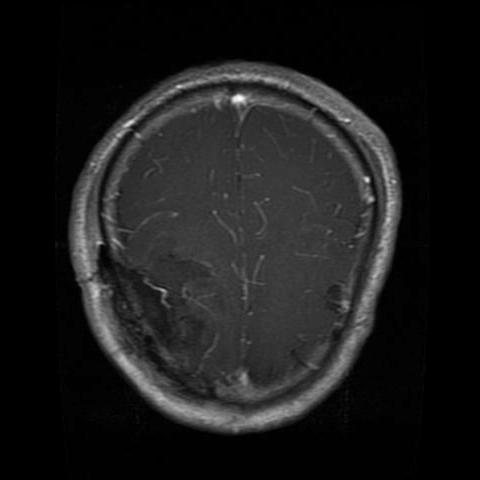Tumour-Glioma: (145, 256, 235, 363)
